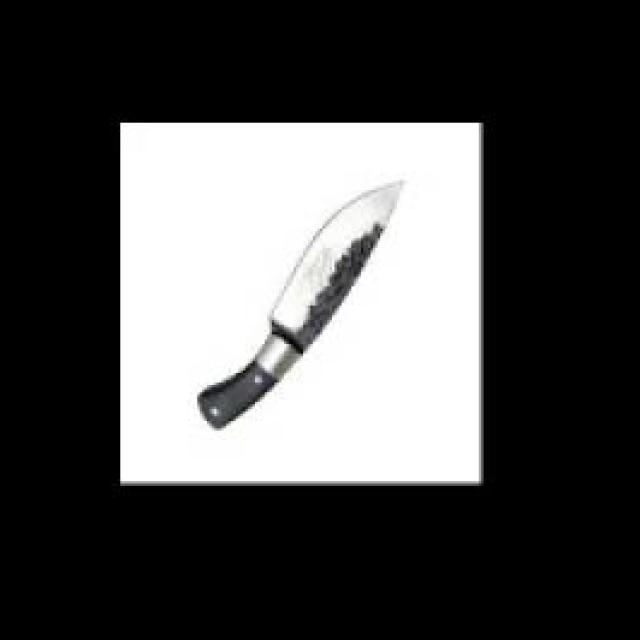knife: (193, 171, 415, 431)
